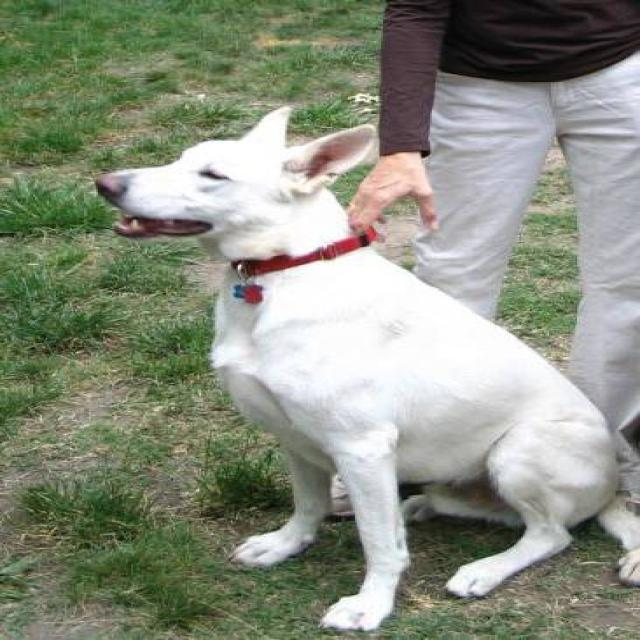Dog: (85, 101, 387, 245)
